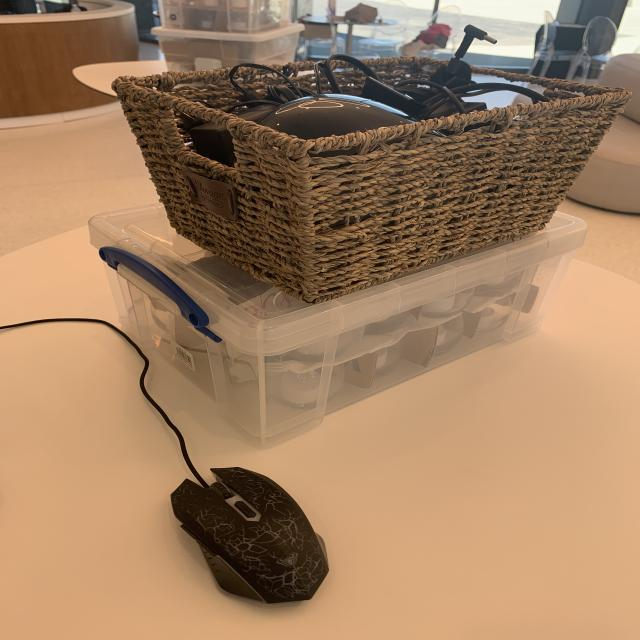Mouse: (167, 461, 343, 614)
